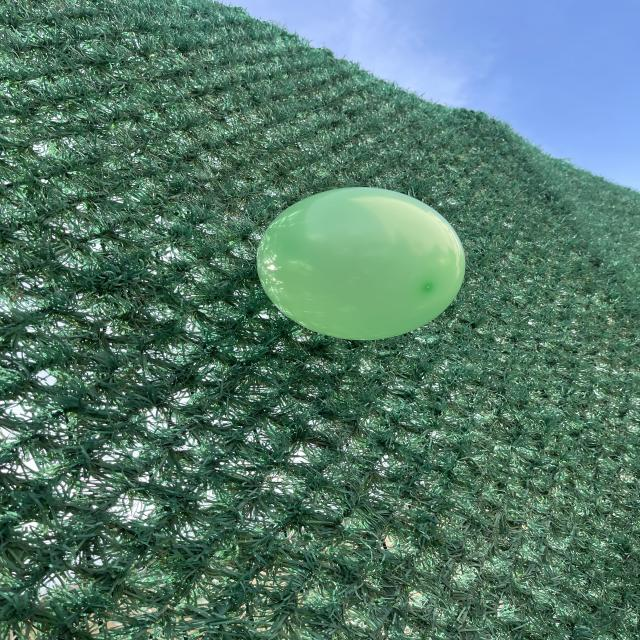balloon: (257, 187, 465, 340)
